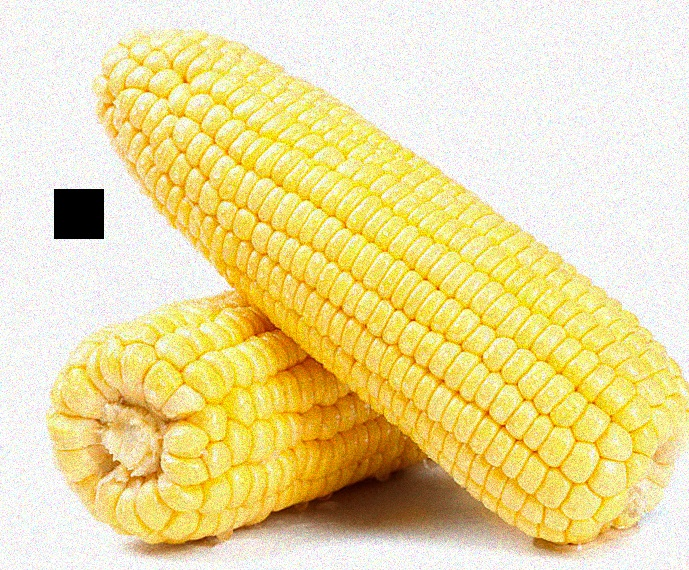corn: (98, 26, 675, 516), (46, 262, 540, 544)
